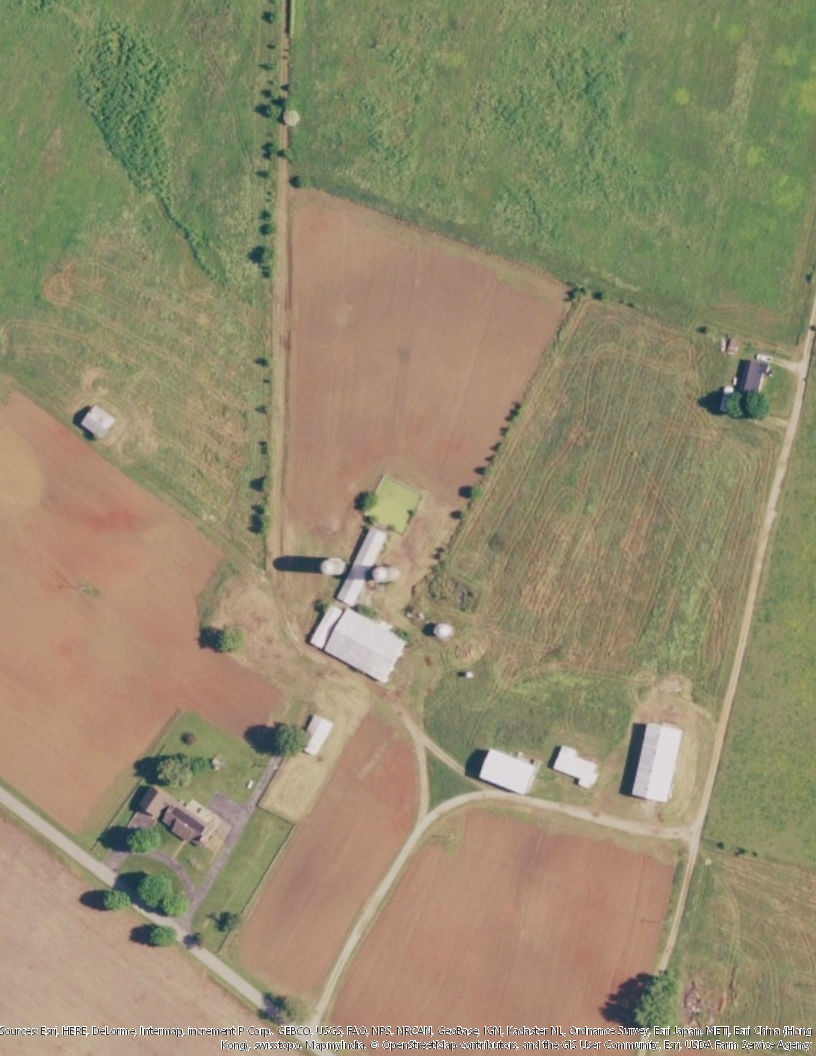cafo: (309, 598, 413, 685), (326, 522, 393, 607), (628, 715, 688, 809), (476, 745, 537, 795)
